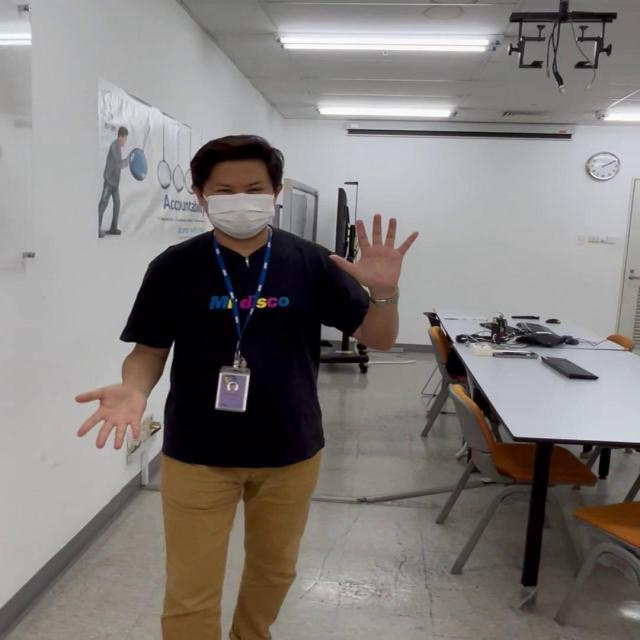bare_hand: (325, 214, 414, 288), (73, 381, 151, 452)
